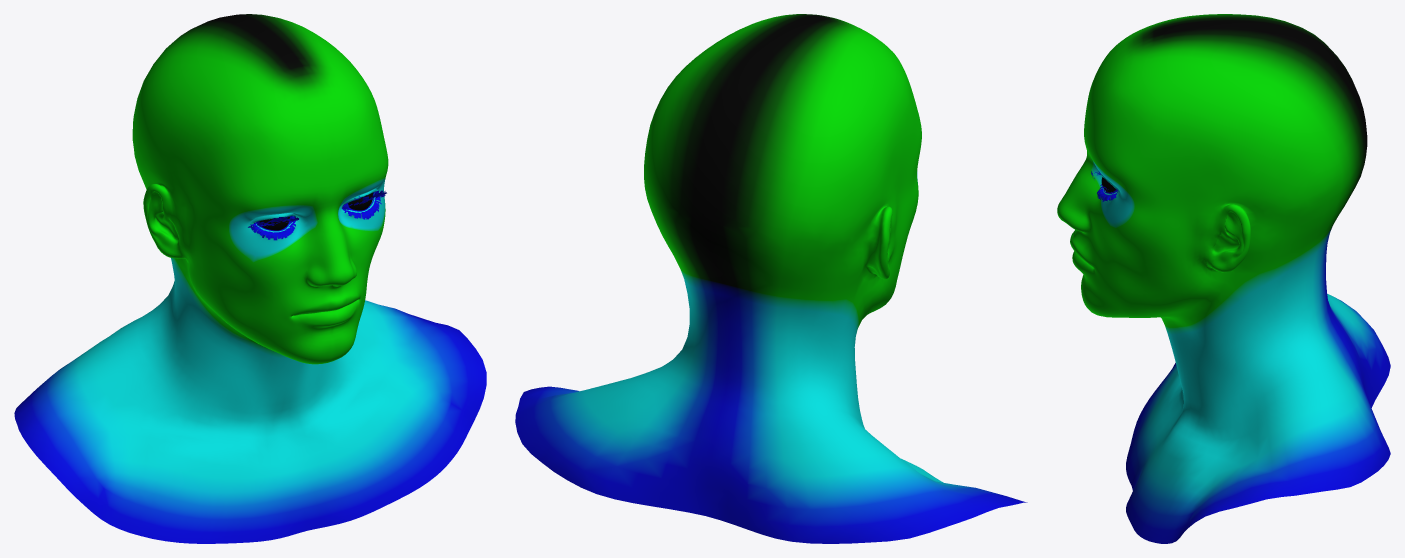
3 renders of one model, left to right at view 1: azimuth 30°, elevation 25°; view 2: azimuth 150°, elevation 25°; view 3: azimuth 270°, elevation 25°, orthographic. The views are drawn at different scales.
Visible parts, largest first — view 1: Face_LOD1; view 2: Face_LOD1; view 3: Face_LOD1.
Part boxes in pixels (bbox=[...]): Face_LOD1: bbox=[14, 14, 486, 543]; Face_LOD1: bbox=[515, 14, 1027, 543]; Face_LOD1: bbox=[1057, 14, 1390, 543].
Size of the model in its own units: 7.77 by 7.86 by 5.09.
